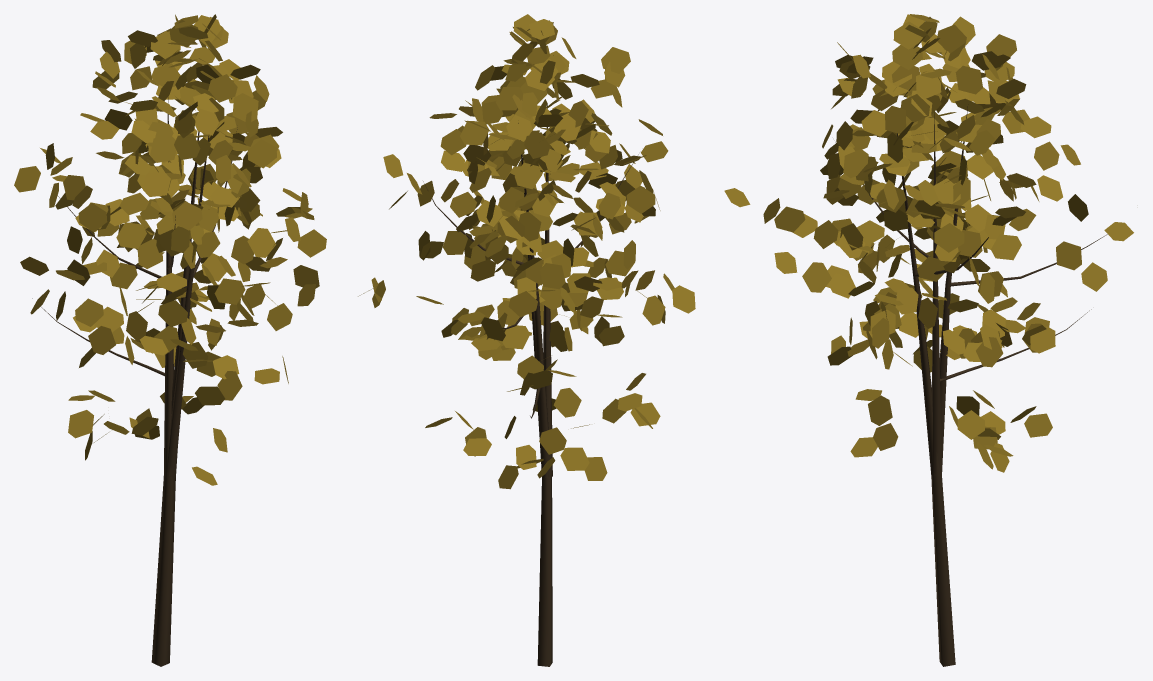
Rendered from tree-tree-007-lod1.glb.
3 views of the same model, side by side, from view 1: azimuth 30°, elevation 25°; view 2: azimuth 150°, elevation 25°; view 3: azimuth 270°, elevation 25° (orthographic). The views are drawn at different scales.
Parts seen in each view (by area): view 1: v_tree.007; view 2: v_tree.007; view 3: v_tree.007.
Boxes of the visible parts, box(x1,y1,x2,y2) form: v_tree.007: box(14, 14, 326, 666); v_tree.007: box(358, 14, 695, 666); v_tree.007: box(724, 14, 1133, 666).
Size of the model in its own units: 8.02 by 17.22 by 9.85.
